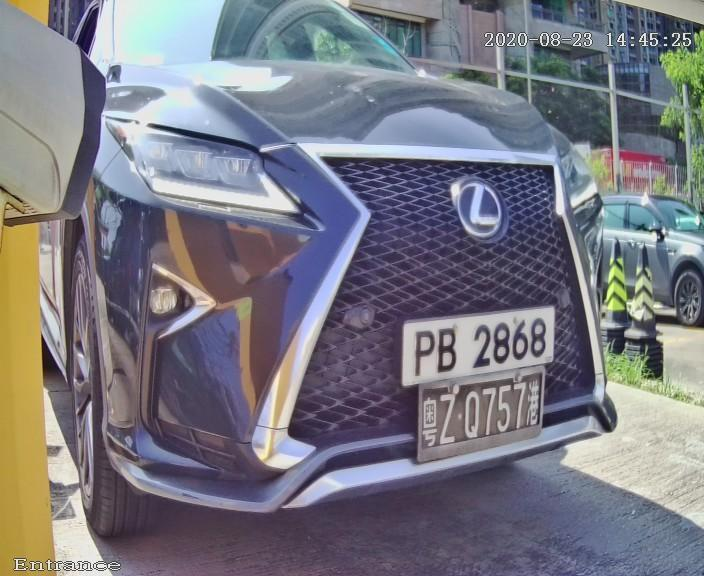Car: (7, 21, 654, 569)
License Plate: (370, 260, 591, 417)
